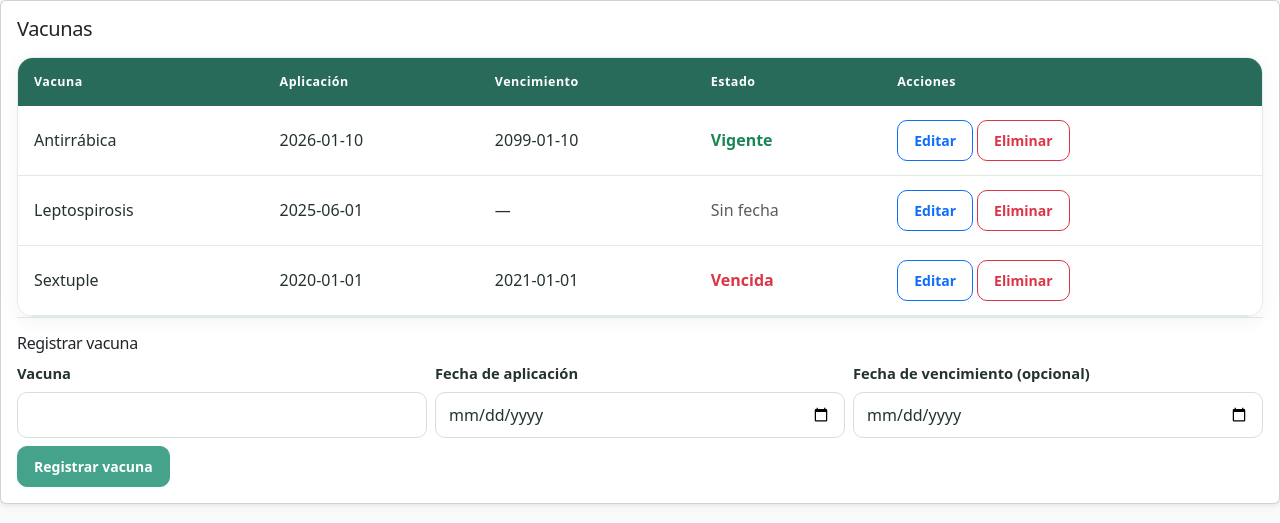
Test: VacunasMascota › edita una vacuna: carga sus datos, la guarda en el backend y la actualiza en la lista
The width and height of the screenshot is (1280, 523).
Click the button with aria-label "Editar vacuna Sextuple": (935, 280) [897, 260, 973, 301]
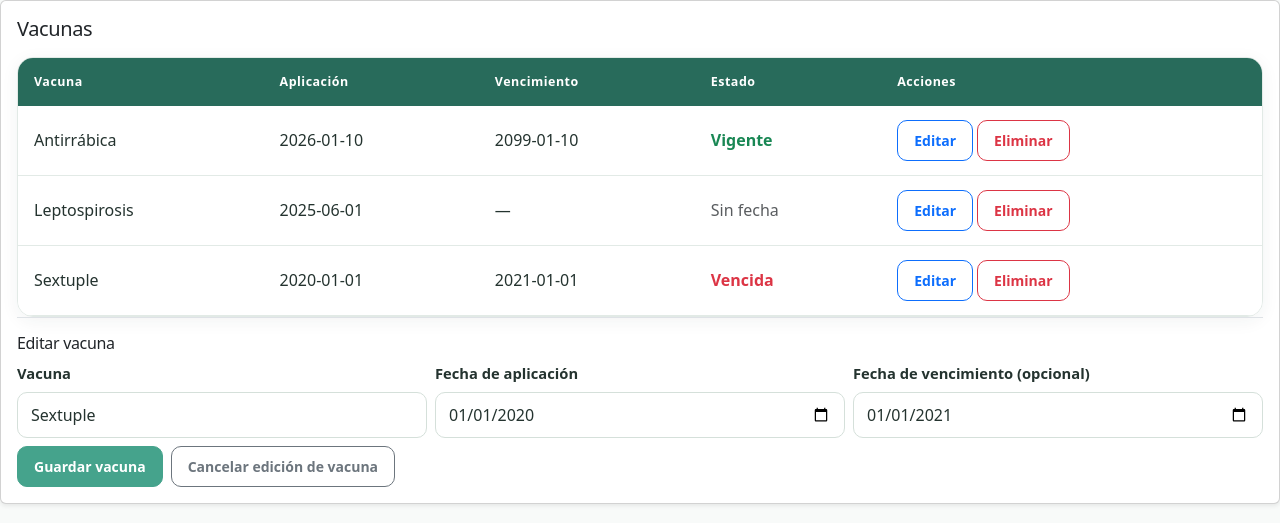
Now the field labelled "Vacuna" holds "Sextuple"
Now the date field labelled "Fecha de aplicación" holds "2020-01-01", box [435, 392, 845, 438]
Replace the text in the field labelled "Vacuna" with "Sextuple canina": (222, 415) [17, 392, 427, 438]
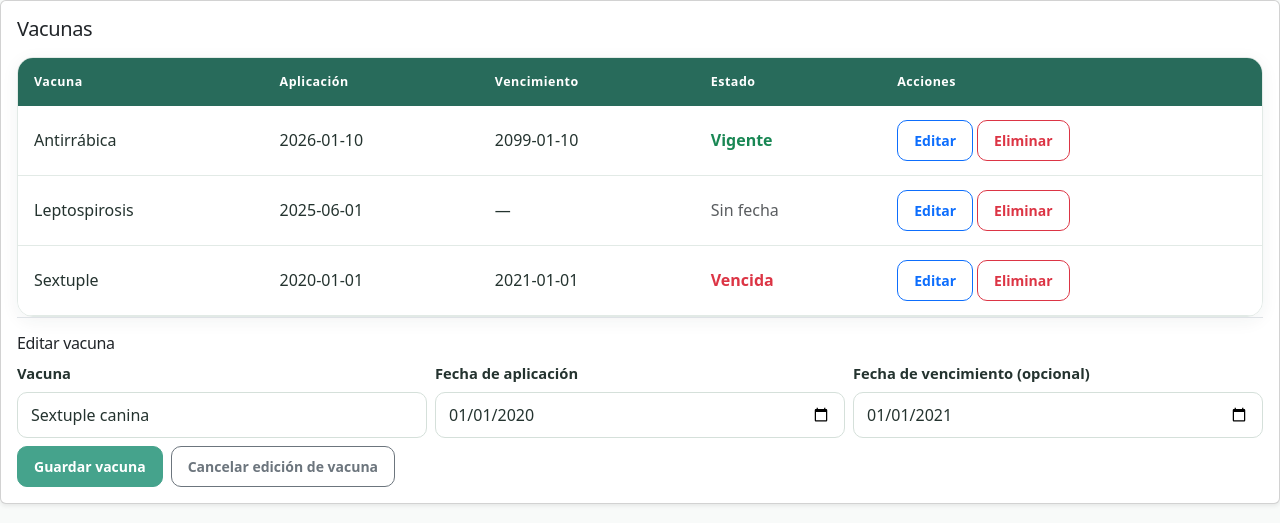
Click the button "Guardar vacuna": (90, 466) [17, 446, 163, 487]
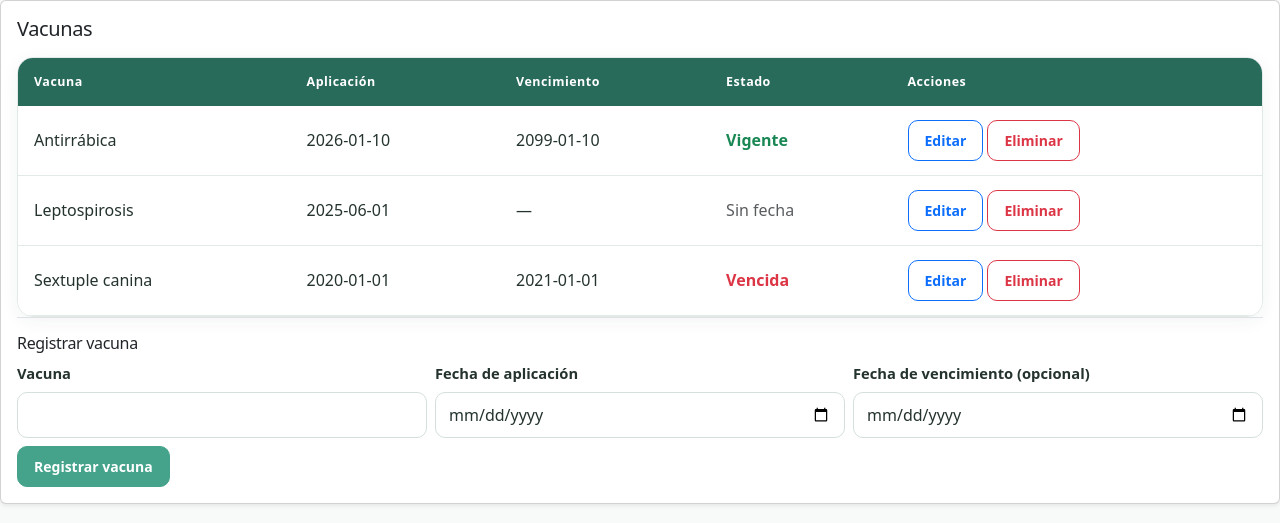
Now the text "Sextuple canina" is shown, box [18, 246, 290, 316]
